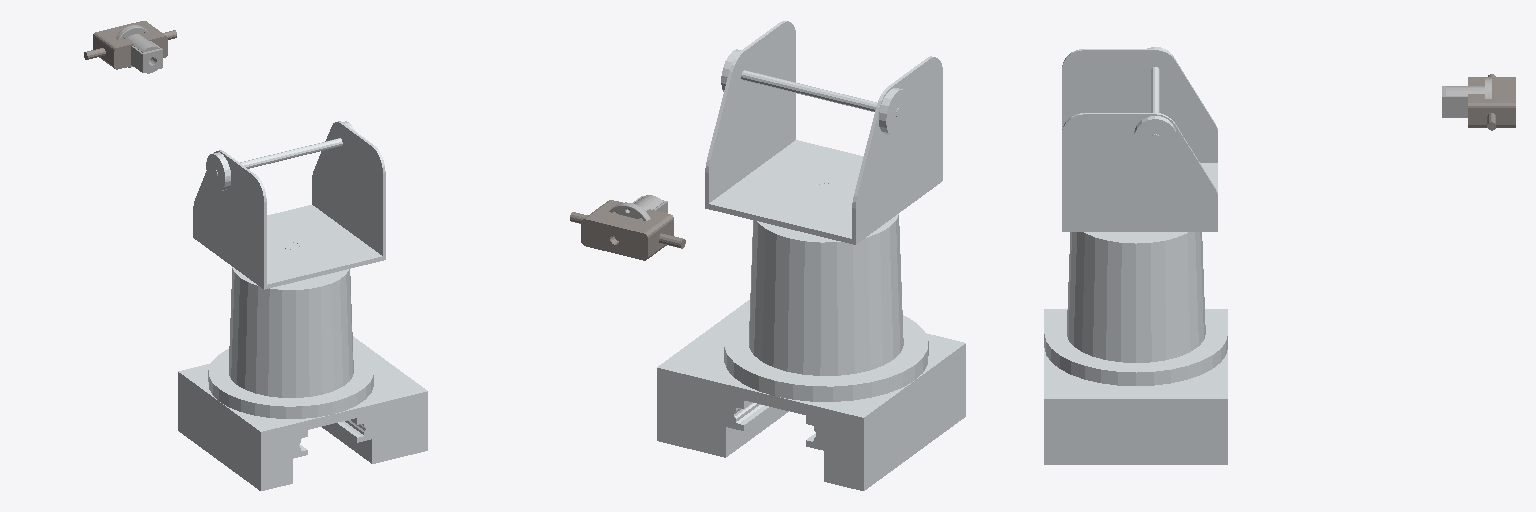
The robot description file, URDF, robot "scorbot-er-v-plus":
<?xml version="1.0" encoding="utf-8"?>
<!-- This URDF was automatically created by SolidWorks to URDF Exporter! Originally created by
[author] ([email redacted]) 
     Commit Version: 1.6.0-4-g7f85cfe  Build Version: 1.6.7995.38578
     For more information, please see http://wiki.ros.org/sw_urdf_exporter -->
<robot
  name="scorbot-er-v-plus">
  <link name="world">
  </link>
  <link
    name="base_link">
    <inertial>
      <origin
        xyz="6.9389E-18 0.65 0.041357"
        rpy="0 0 0" />
      <mass
        value="24.144" />
      <inertia
        ixx="3.4129"
        ixy="-2.7635E-18"
        ixz="1.5076E-18"
        iyy="0.028252"
        iyz="3.1049E-17"
        izz="3.416" />
    </inertial>
    <visual>
      <origin
        xyz="0 0 0"
        rpy="0 0 0" />
      <geometry>
        <mesh
          filename="package://scorbot_er_v/meshes/slide_base_link.STL" />
      </geometry>
      <material
        name="">
        <color
          rgba="0.89804 0.91765 0.92941 1" />
      </material>
    </visual>
    <collision>
      <origin
        xyz="0 0 0"
        rpy="0 0 0" />
      <geometry>
        <mesh
          filename="package://scorbot_er_v/meshes/slide_base_link.STL" />
      </geometry>
    </collision>
  </link>
  <joint name="world_joint" type="fixed">
    <parent link="world" />
    <child link="base_link" />
  </joint>
  <link
    name="slide_base_link">
    <inertial>
      <origin
        xyz="-0.012271 0.012815 0"
        rpy="0 0 0" />
      <mass
        value="5.7681" />
      <inertia
        ixx="0.071205"
        ixy="-0.0043325"
        ixz="6.0569E-17"
        iyy="0.070116"
        iyz="2.4488E-17"
        izz="0.08178" />
    </inertial>
    <visual>
      <origin
        xyz="0 0 0"
        rpy="0 0 0" />
      <geometry>
        <mesh
          filename="package://scorbot_er_v/meshes/base_link.STL" />
      </geometry>
      <material
        name="">
        <color
          rgba="0.89804 0.91765 0.92941 1" />
      </material>
    </visual>
    <collision>
      <origin
        xyz="0 0 0"
        rpy="0 0 0" />
      <geometry>
        <mesh
          filename="package://scorbot_er_v/meshes/base_link.STL" />
      </geometry>
    </collision>
  </link>
  <joint
    name="slide_base_joint"
    type="prismatic">
    <origin
      xyz="0 0.17 0.096"
      rpy="1.5708 0 3.1416" />
    <parent
      link="base_link" />
    <child
      link="slide_base_link" />
    <axis
      xyz="0 0 1" />
    <limit
      lower="0"
      upper="0.9"
      effort="0"
      velocity="0" />
  </joint>
  <link
    name="body_link">
    <inertial>
      <origin
        xyz="-0.0024124 0.0019378 -0.070016"
        rpy="0 0 0" />
      <mass
        value="4.1847" />
      <inertia
        ixx="0.029582"
        ixy="0.00098745"
        ixz="0.0042693"
        iyy="0.027732"
        iyz="-0.00082029"
        izz="0.03323" />
    </inertial>
    <visual>
      <origin
        xyz="0 0 0"
        rpy="0 0 0" />
      <geometry>
        <mesh
          filename="package://scorbot_er_v/meshes/body_link.STL" />
      </geometry>
      <material
        name="">
        <color
          rgba="0.89804 0.91765 0.92941 1" />
      </material>
    </visual>
    <collision>
      <origin
        xyz="0 0 0"
        rpy="0 0 0" />
      <geometry>
        <mesh
          filename="package://scorbot_er_v/meshes/body_link.STL" />
      </geometry>
    </collision>
  </link>
  <joint
    name="body_joint"
    type="continuous">
    <origin
      xyz="0 0.354 0"
      rpy="-1.5708 -1.5708 0" />
    <parent
      link="slide_base_link" />
    <child
      link="body_link" />
    <axis
      xyz="0 0 1" />
    <dynamics damping="0.7" />
  </joint>
  <link
    name="shoulder_link">
    <inertial>
      <origin
        xyz="0.10172 0.0057759 -4.0246E-16"
        rpy="0 0 0" />
      <mass
        value="2.1816" />
      <inertia
        ixx="0.011823"
        ixy="-3.4979E-05"
        ixz="1.0635E-17"
        iyy="0.028073"
        iyz="1.3636E-17"
        izz="0.017919" />
    </inertial>
    <visual>
      <origin
        xyz="0 0 0"
        rpy="0 0 0" />
      <geometry>
        <mesh
          filename="package://scorbot_er_v/meshes/shoulder_link.STL" />
      </geometry>
      <material
        name="">
        <color
          rgba="0.64706 0.61961 0.58824 1" />
      </material>
    </visual>
    <collision>
      <origin
        xyz="0 0 0"
        rpy="0 0 0" />
      <geometry>
        <mesh
          filename="package://scorbot_er_v/meshes/shoulder_link.STL" />
      </geometry>
    </collision>
  </link>
  <joint
    name="shoulder_joint"
    type="continuous">
    <origin
      xyz="0.025 0 0"
      rpy="1.5708 0 0" />
    <parent
      link="body_link" />
    <child
      link="shoulder_link" />
    <axis
      xyz="0 0 -1" />
    <dynamics damping="0.7" />
  </joint>
  <link
    name="elbow_link">
    <inertial>
      <origin
        xyz="0.1333 0.0044924 1.249E-16"
        rpy="0 0 0" />
      <mass
        value="1.3299" />
      <inertia
        ixx="0.0056088"
        ixy="0.00042004"
        ixz="-1.9107E-17"
        iyy="0.014028"
        iyz="5.212E-20"
        izz="0.009294" />
    </inertial>
    <visual>
      <origin
        xyz="0 0 0"
        rpy="0 0 0" />
      <geometry>
        <mesh
          filename="package://scorbot_er_v/meshes/elbow_link.STL" />
      </geometry>
      <material
        name="">
        <color
          rgba="0.64706 0.61961 0.58824 1" />
      </material>
    </visual>
    <collision>
      <origin
        xyz="0 0 0"
        rpy="0 0 0" />
      <geometry>
        <mesh
          filename="package://scorbot_er_v/meshes/elbow_link.STL" />
      </geometry>
    </collision>
  </link>
  <joint
    name="elbow_joint"
    type="continuous">
    <origin
      xyz="0.22 0 0"
      rpy="0 0 0" />
    <parent
      link="shoulder_link" />
    <child
      link="elbow_link" />
    <axis
      xyz="0 0 -1" />
    <dynamics damping="0.7" />
  </joint>
  <link
    name="wrist_link">
    <inertial>
      <origin
        xyz="5.5511E-17 0.0016897 2.7756E-17"
        rpy="0 0 0" />
      <mass
        value="0.11142" />
      <inertia
        ixx="0.00015149"
        ixy="-3.4232E-21"
        ixz="4.5808E-20"
        iyy="0.00012081"
        iyz="3.5338E-20"
        izz="6.0971E-05" />
    </inertial>
    <visual>
      <origin
        xyz="0 0 0"
        rpy="0 0 0" />
      <geometry>
        <mesh
          filename="package://scorbot_er_v/meshes/wrist_link.STL" />
      </geometry>
      <material
        name="">
        <color
          rgba="0.64314 0.61569 0.6 1" />
      </material>
    </visual>
    <collision>
      <origin
        xyz="0 0 0"
        rpy="0 0 0" />
      <geometry>
        <mesh
          filename="package://scorbot_er_v/meshes/wrist_link.STL" />
      </geometry>
    </collision>
  </link>
  <joint
    name="wrist_joint"
    type="continuous">
    <origin
      xyz="0.22 0 0"
      rpy="0 0 1.5708" />
    <parent
      link="elbow_link" />
    <child
      link="wrist_link" />
    <axis
      xyz="0 0 -1" />
    <dynamics damping="0.7" />
  </joint>
  <link
    name="roll_wrist_link">
    <inertial>
      <origin
        xyz="-0.00011221 -0.0098074 0.096196"
        rpy="0 0 0" />
      <mass
        value="0.3891" />
      <inertia
        ixx="0.0013614"
        ixy="0.0"
        ixz="0.0"
        iyy="0.00015489"
        iyz="0.0"
        izz="0.0010547" />
    </inertial>
    <visual>
      <origin
        xyz="0 0 0"
        rpy="0 0 0" />
      <geometry>
        <mesh
          filename="package://scorbot_er_v/meshes/roll_wrist_link.STL" />
      </geometry>
      <material
        name="">
        <color
          rgba="0.75294 0.75294 0.75294 0.5" />
      </material>
    </visual>
    <collision>
      <origin
        xyz="0 0 0"
        rpy="0 0 0" />
      <geometry>
        <mesh
          filename="package://scorbot_er_v/meshes/roll_wrist_link.STL" />
      </geometry>
    </collision>
  </link>
  <joint
    name="roll_wrist_joint"
    type="continuous">
    <origin
      xyz="0 0 0"
      rpy="1.5708 0 0" />
    <parent
      link="wrist_link" />
    <child
      link="roll_wrist_link" />
    <axis
      xyz="0 0 1" />
    <dynamics damping="0.7" />
  </joint>
  <link
    name="extruder_link">
    <inertial>
      <origin
        xyz="0.0001115 0 -0.004905"
        rpy="0 0 0" />
      <mass
        value="0.00058199" />
      <inertia
        ixx="0.001"
        ixy="0.0"
        ixz="0.0"
        iyy="0.01"
        iyz="0.0"
        izz="0.01" />
    </inertial>
    <visual>
      <origin
        xyz="0 0 0"
        rpy="0 0 0" />
      <geometry>
        <mesh
          filename="package://scorbot_er_v/meshes/extruder_link.STL" />
      </geometry>
      <material
        name="">
        <color
          rgba="1 0 0 1" />
      </material>
    </visual>
    <collision>
      <origin
        xyz="0 0 0"
        rpy="0 0 0" />
      <geometry>
        <mesh
          filename="package://scorbot_er_v/meshes/extruder_link.STL" />
      </geometry>
    </collision>
  </link>
  <joint
    name="extruder_screw_joint"
    type="continuous">
    <origin
      xyz="0 -0.011037 0.126"
      rpy="-1.5708 3.1416 0" />
    <parent
      link="roll_wrist_link" />
    <child
      link="extruder_link" />
    <axis
      xyz="0 0 1" />
    <dynamics damping="0.7" />
  </joint>

  <ros2_control name="GazeboSystem" type="system">

    <hardware>
      <plugin>gazebo_ros2_control/GazeboSystem</plugin>
    </hardware>

    <joint name="slide_base_joint">
      <command_interface name="position" />
      <state_interface name="position">
        <param name="initial_value">0.0</param>
      </state_interface>
      <state_interface name="velocity" />
    </joint>

    <joint name="body_joint">
      <command_interface name="position" />
      <state_interface name="position">
        <param name="initial_value">0.0</param>
      </state_interface>
      <state_interface name="velocity" />
    </joint>

    <joint name="shoulder_joint">
      <command_interface name="position" />
      <state_interface name="position">
        <param name="initial_value">0.0</param>
      </state_interface>
      <state_interface name="velocity" />
    </joint>

    <joint name="elbow_joint">
      <command_interface name="position" />
      <state_interface name="position">
        <param name="initial_value">0.0</param>
      </state_interface>
      <state_interface name="velocity" />
    </joint>

    <joint name="wrist_joint">
      <command_interface name="position" />
      <state_interface name="position">
        <param name="initial_value">0.0</param>
      </state_interface>
      <state_interface name="velocity" />
    </joint>

    <joint name="roll_wrist_joint">
      <command_interface name="position" />
      <state_interface name="position">
        <param name="initial_value">0.0</param>
      </state_interface>
      <state_interface name="velocity" />
    </joint>

    <joint name="extruder_screw_joint">
      <command_interface name="position" />
      <state_interface name="position">
        <param name="initial_value">0.0</param>
      </state_interface>
      <state_interface name="velocity" />
    </joint>

  </ros2_control>

  <gazebo>
    <plugin name="gazebo_ros2_control" filename="libgazebo_ros2_control.so">
      <parameters>[local-path]/scorbot_ws/src/scorbot_er_v/config/scorbot_er_v_controllers.yaml</parameters>
    </plugin>
  </gazebo>

</robot>

--- What the picture shows (computed from the rendered views, not written in the file) ---
Views: 3 orthographic renders of the robot side by side, from view 1: azimuth 30°, elevation 25°; view 2: azimuth 150°, elevation 25°; view 3: azimuth 270°, elevation 25°.
Model scorbot-er-v-plus with 9 links and 8 joints (6 continuous, 1 prismatic, 1 fixed), rooted at world, posed all joints at 0.
Links seen in each view (by area): view 1: slide_base_link, body_link, wrist_link, roll_wrist_link; view 2: slide_base_link, body_link, wrist_link, roll_wrist_link; view 3: slide_base_link, body_link, wrist_link, roll_wrist_link.
Link boxes in pixels (x1,y1,x2,y2): slide_base_link: (178,242,427,490); body_link: (193,121,385,289); wrist_link: (84,21,176,69); roll_wrist_link: (116,25,162,73); slide_base_link: (657,183,965,490); body_link: (705,21,942,244); wrist_link: (570,200,685,260); roll_wrist_link: (609,195,667,220); slide_base_link: (1044,232,1227,464); body_link: (1062,47,1217,231); wrist_link: (1468,74,1515,130); roll_wrist_link: (1442,78,1491,117).
Bounding box of the posed robot: 0.28 × 0.616 × 0.4805 m (x, y, z).
Meshes: 8 distinct files referenced, 4 mesh visuals loaded (4 binary STL); not drawn: 4 (reference not matched to a file when rendering).
